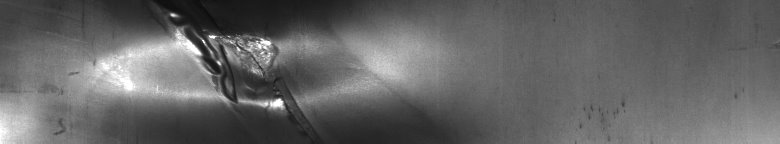ke: (164, 6, 304, 116)
